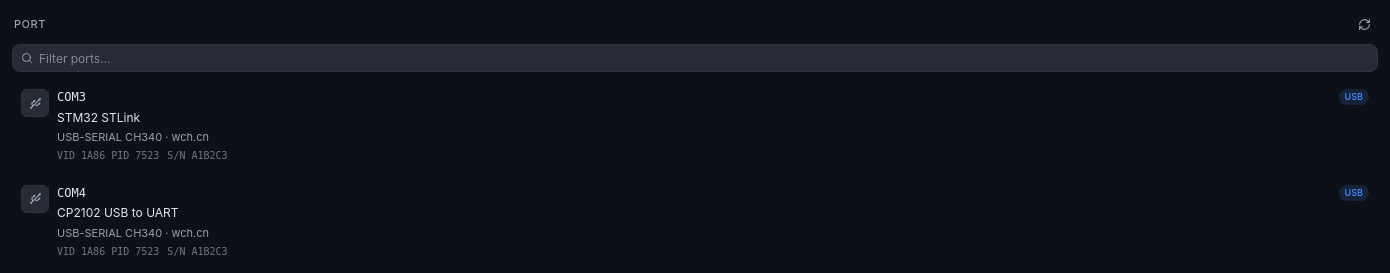
it: PortPicker › filters ports by description text
Step 1. Type "stlink" into the field with placeholder "Filter ports..." → (704, 58), box [39,45,1369,71]
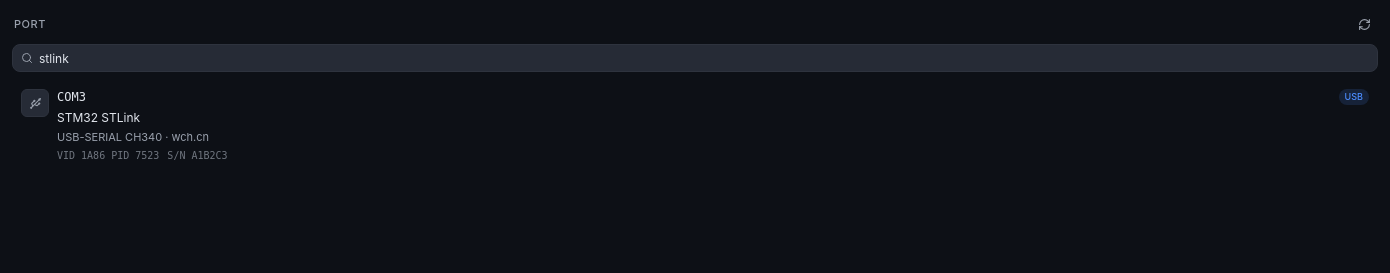
Expected: the text "COM3" is shown, [57,89,86,106]
Expected: the button "COM4" is gone
